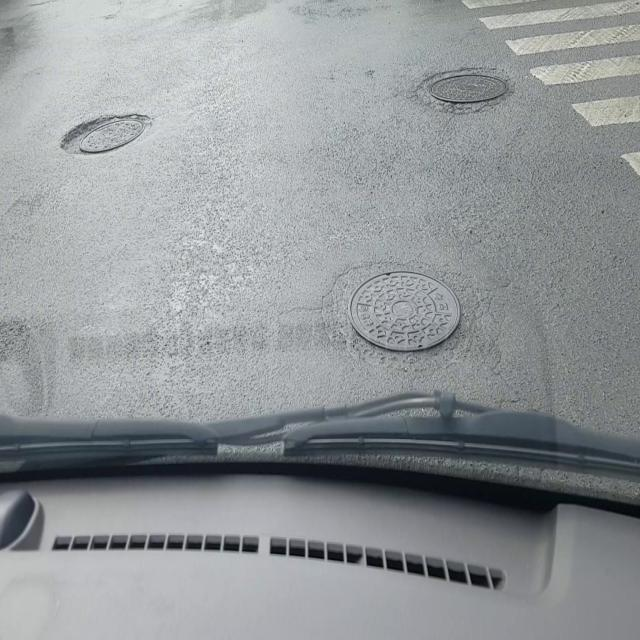Pothole: (56, 111, 154, 159)
